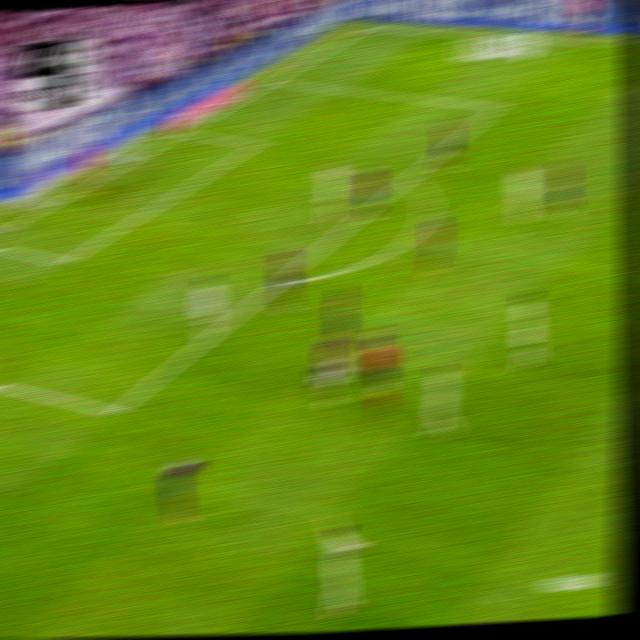bigarea_bottom_inner: (103, 396, 127, 425)
bigarea_top_inner: (485, 96, 507, 116)
bigarea_top_outter: (264, 72, 285, 87)
corner: (353, 19, 376, 32)
smallarea_bottom_inner: (54, 249, 76, 272)
smallarea_top_inner: (245, 137, 264, 151)
top_arc_area_intersection: (398, 168, 418, 186)
